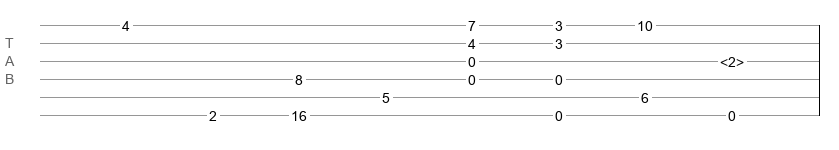0: (468, 72, 476, 82), (468, 54, 476, 64), (555, 72, 563, 82), (555, 108, 563, 118), (728, 108, 736, 118)
10: (637, 18, 653, 28)
16: (291, 108, 307, 118)
2: (209, 108, 217, 118)
3: (555, 36, 563, 46), (555, 18, 563, 28)
4: (122, 18, 130, 28), (468, 36, 476, 46)
5: (382, 90, 390, 100)
6: (641, 90, 649, 100)
7: (468, 18, 476, 28)
8: (295, 72, 303, 82)
harmonic: (720, 54, 744, 64)
